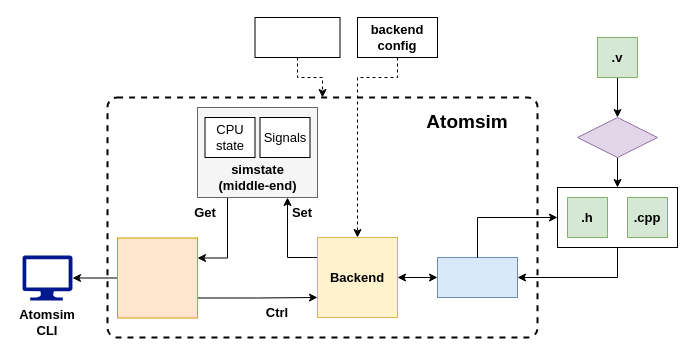
Image size: 695x356. Some labels were removed from this diagram. Here are the shapes that lost their labels. From the top down, the box of each, then its label:
(254, 16, 340, 58): sim config
(576, 116, 658, 158): Verilator
(116, 237, 198, 318): Interactive Frontend
(436, 256, 518, 298): testbench
